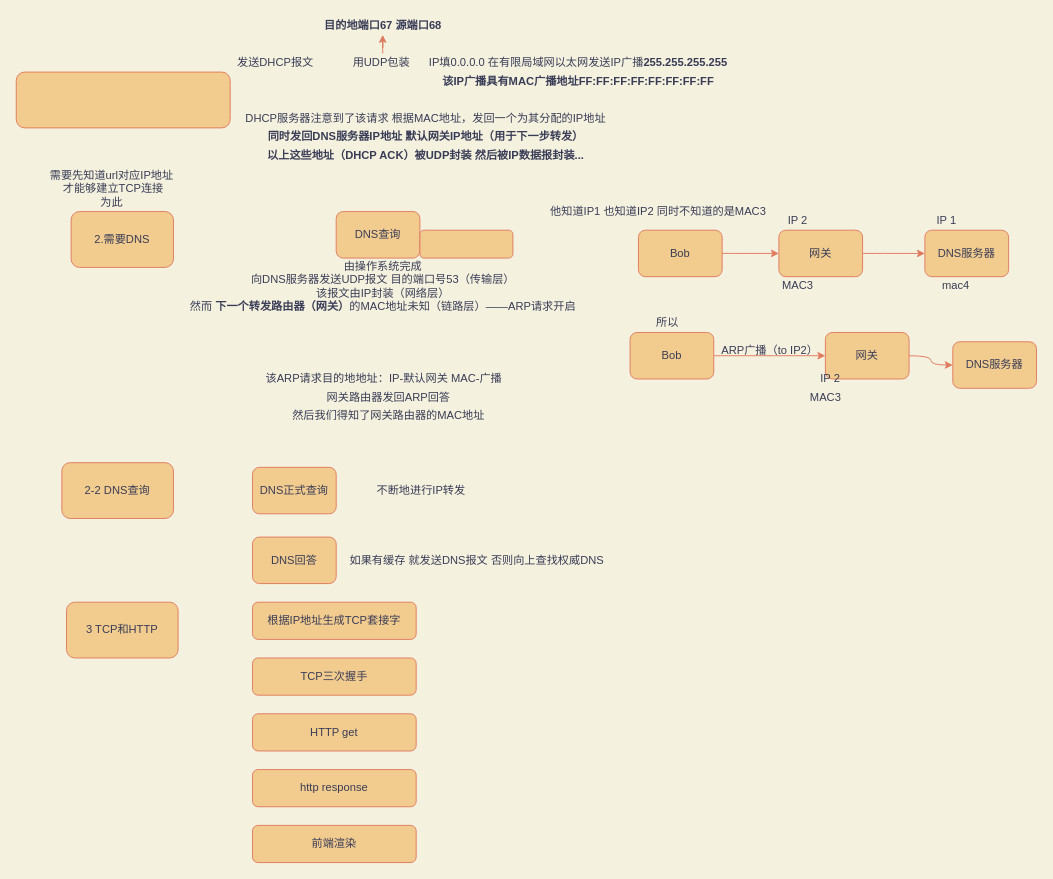
Image size: 1053x879. Some labels were removed from this diagram. Each missing label, with the centre of its shape:
"1.（如必要）分配IP地址" goes at point 122,99.
"内嵌ARP查询" goes at point 466,243.
